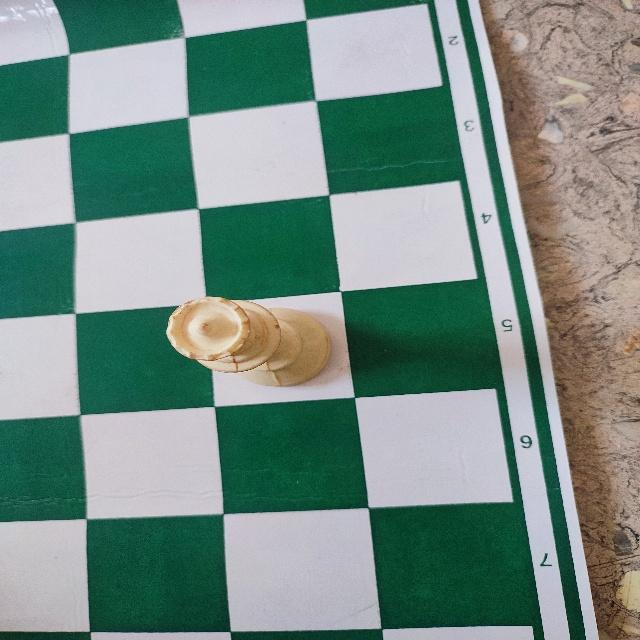Queen: (165, 294, 335, 391)
